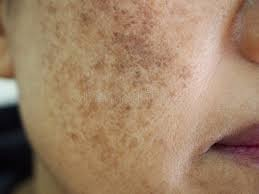Melasma: (37, 0, 192, 165)
